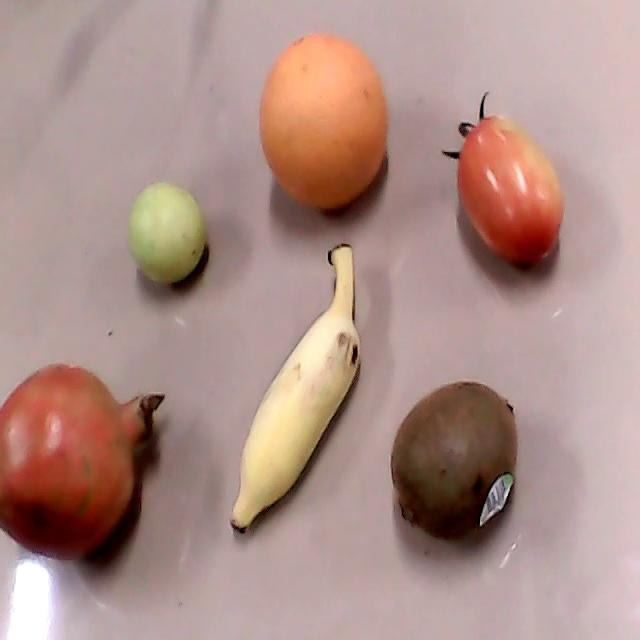kiwi: (392, 381, 518, 539)
lemon: (127, 182, 204, 282)
orange: (259, 33, 389, 210)
pomegranate: (1, 363, 166, 559)
tomato: (442, 91, 564, 261)
